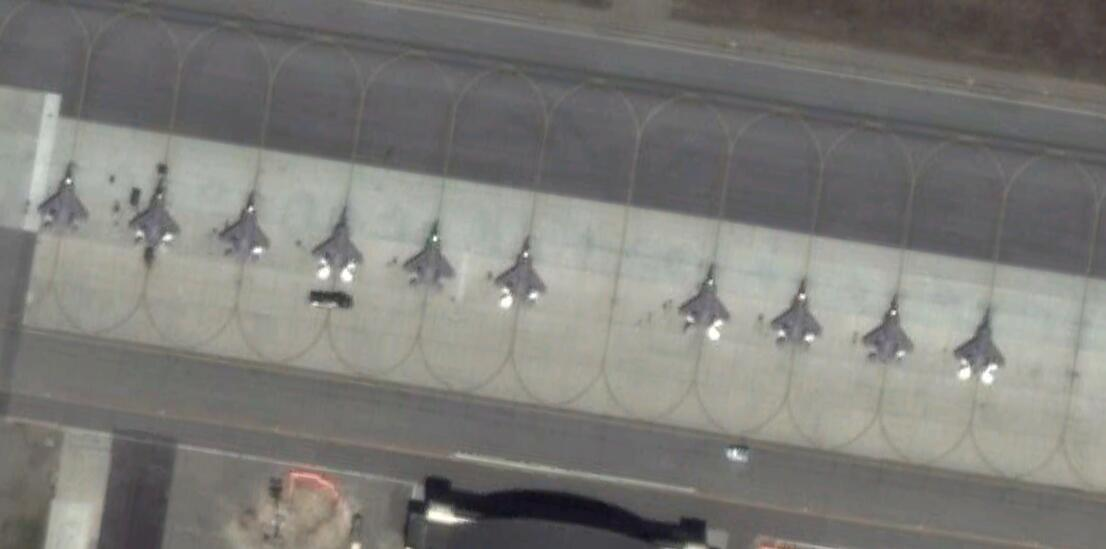A15: (952, 304, 1010, 387), (492, 236, 550, 314), (677, 262, 731, 342), (770, 275, 824, 354), (862, 294, 917, 370), (218, 190, 272, 267), (403, 220, 459, 294), (312, 207, 365, 285), (37, 162, 93, 235), (128, 178, 185, 249)
